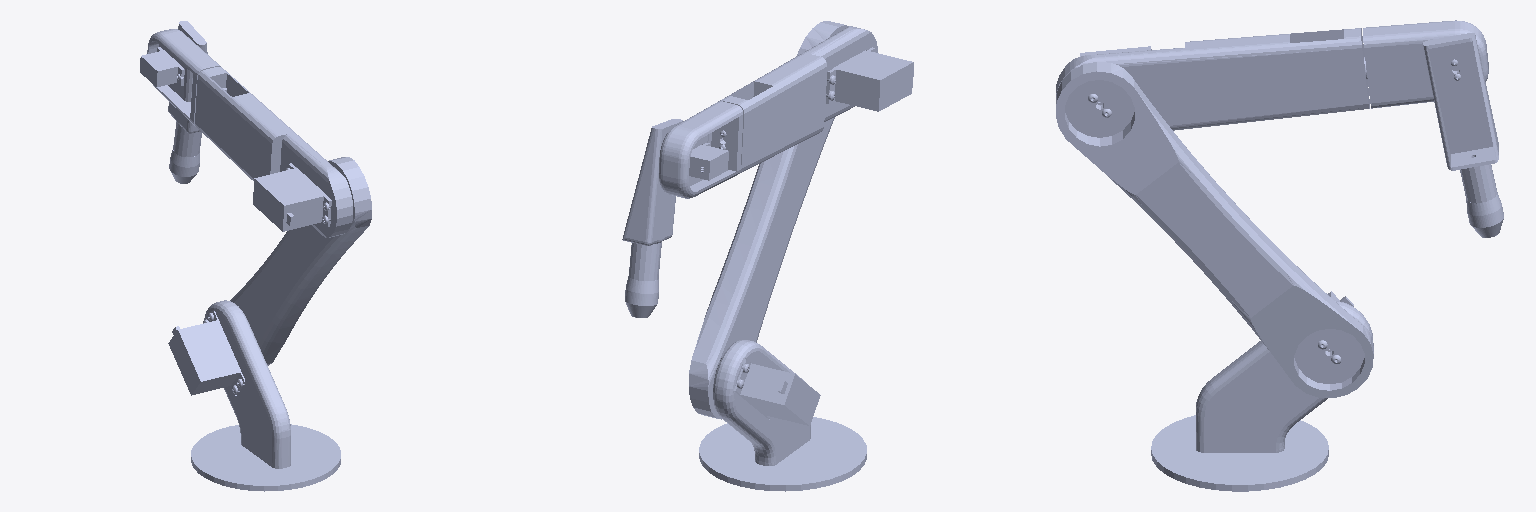
The robot description file, URDF, robot "urdf_assembly":
<?xml version="1.0" encoding="utf-8"?>
<!-- This URDF was automatically created by SolidWorks to URDF Exporter! Originally created by [author] ([email redacted]) 
     Commit Version: 1.6.0-1-g15f4949  Build Version: 1.6.7594.29634
     For more information, please see http://wiki.ros.org/urdf_export -->
<robot
  name="urdf_assembly">
  <link
    name="Base">
    <inertial>
      <origin
        xyz="0.025743 0.095867 0.016436"
        rpy="0 0 0" />
      <mass
        value="1.6937" />
      <inertia
        ixx="0.010051"
        ixy="1.7153E-06"
        ixz="6.7336E-08"
        iyy="0.011257"
        iyz="-0.00058741"
        izz="0.0096935" />
    </inertial>
    <visual>
      <origin
        xyz="0 0 0"
        rpy="0 0 0" />
      <geometry>
        <mesh
          filename="package://urdf_assembly/meshes/Base.STL" />
      </geometry>
      <material
        name="">
        <color
          rgba="0.79216 0.81961 0.93333 1" />
      </material>
    </visual>
    <collision>
      <origin
        xyz="0 0 0"
        rpy="0 0 0" />
      <geometry>
        <mesh
          filename="package://urdf_assembly/meshes/Base.STL" />
      </geometry>
    </collision>
  </link>
  <link
    name="Link1">
    <inertial>
      <origin
        xyz="0.002426 0.041407 -0.020781"
        rpy="0 0 0" />
      <mass
        value="0.13204" />
      <inertia
        ixx="0.00014468"
        ixy="-1.4706E-05"
        ixz="1.4494E-05"
        iyy="9.8209E-05"
        iyz="4.2546E-05"
        izz="0.00010751" />
    </inertial>
    <visual>
      <origin
        xyz="0 0 0"
        rpy="0 0 0" />
      <geometry>
        <mesh
          filename="package://urdf_assembly/meshes/Link1.STL" />
      </geometry>
      <material
        name="">
        <color
          rgba="0.79216 0.81961 0.93333 1" />
      </material>
    </visual>
    <collision>
      <origin
        xyz="0 0 0"
        rpy="0 0 0" />
      <geometry>
        <mesh
          filename="package://urdf_assembly/meshes/Link1.STL" />
      </geometry>
    </collision>
  </link>
  <joint
    name="Joint0"
    type="revolute">
    <origin
      xyz="0 0 0.101"
      rpy="1.5708 0 0.32385" />
    <parent
      link="Base" />
    <child
      link="Link1" />
    <axis
      xyz="0 1 0" />
    <limit
      lower="-2.5"
      upper="2.5"
      effort="0"
      velocity="0" />
  </joint>
  <link
    name="Link2">
    <inertial>
      <origin
        xyz="-0.0016224 0.083246 0.057904"
        rpy="0 0 0" />
      <mass
        value="0.1551" />
      <inertia
        ixx="0.00059524"
        ixy="8.3316E-05"
        ixz="5.8251E-05"
        iyy="0.00020264"
        iyz="-0.00024821"
        izz="0.00044125" />
    </inertial>
    <visual>
      <origin
        xyz="0 0 0"
        rpy="0 0 0" />
      <geometry>
        <mesh
          filename="package://urdf_assembly/meshes/Link2.STL" />
      </geometry>
      <material
        name="">
        <color
          rgba="0.79216 0.81961 0.93333 1" />
      </material>
    </visual>
    <collision>
      <origin
        xyz="0 0 0"
        rpy="0 0 0" />
      <geometry>
        <mesh
          filename="package://urdf_assembly/meshes/Link2.STL" />
      </geometry>
    </collision>
  </link>
  <joint
    name="Joint1"
    type="revolute">
    <origin
      xyz="0.015983 0.074195 -0.047617"
      rpy="0.10771 -0.0019457 0.036092" />
    <parent
      link="Link1" />
    <child
      link="Link2" />
    <axis
      xyz="0.94802 0 0.31822" />
    <limit
      lower="-3.14159"
      upper="3.14159"
      effort="0"
      velocity="0" />
  </joint>
  <link
    name="Link3">
    <inertial>
      <origin
        xyz="0.011814 -0.021418 -0.052188"
        rpy="0 0 0" />
      <mass
        value="0.1438" />
      <inertia
        ixx="0.00020613"
        ixy="1.6846E-05"
        ixz="4.5316E-05"
        iyy="0.00018247"
        iyz="-5.8025E-05"
        izz="6.5485E-05" />
    </inertial>
    <visual>
      <origin
        xyz="0 0 0"
        rpy="0 0 0" />
      <geometry>
        <mesh
          filename="package://urdf_assembly/meshes/Link3.STL" />
      </geometry>
      <material
        name="">
        <color
          rgba="0.79216 0.81961 0.93333 1" />
      </material>
    </visual>
    <collision>
      <origin
        xyz="0 0 0"
        rpy="0 0 0" />
      <geometry>
        <mesh
          filename="package://urdf_assembly/meshes/Link3.STL" />
      </geometry>
    </collision>
  </link>
  <joint
    name="Joint2"
    type="revolute">
    <origin
      xyz="-0.035265 0.16649 0.10506"
      rpy="0.35067 -0.020496 0.11557" />
    <parent
      link="Link2" />
    <child
      link="Link3" />
    <axis
      xyz="0.94802 0 0.31822" />
    <limit
      lower="-3.14159"
      upper="3.14159"
      effort="0"
      velocity="0" />
  </joint>
  <link
    name="Link4">
    <inertial>
      <origin
        xyz="0.015974 -0.019589 -0.046515"
        rpy="0 0 0" />
      <mass
        value="0.038385" />
      <inertia
        ixx="1.7814E-05"
        ixy="1.4075E-06"
        ixz="3.0984E-06"
        iyy="1.3188E-05"
        iyz="-1.9743E-06"
        izz="9.2426E-06" />
    </inertial>
    <visual>
      <origin
        xyz="0 0 0"
        rpy="0 0 0" />
      <geometry>
        <mesh
          filename="package://urdf_assembly/meshes/Link4.STL" />
      </geometry>
      <material
        name="">
        <color
          rgba="0.79216 0.81961 0.93333 1" />
      </material>
    </visual>
    <collision>
      <origin
        xyz="0 0 0"
        rpy="0 0 0" />
      <geometry>
        <mesh
          filename="package://urdf_assembly/meshes/Link4.STL" />
      </geometry>
    </collision>
  </link>
  <joint
    name="Joint3"
    type="revolute">
    <origin
      xyz="0.036895 -0.049968 -0.11959"
      rpy="0.048717 -0.053299 -0.13548" />
    <parent
      link="Link3" />
    <child
      link="Link4" />
    <axis
      xyz="0.29552 -0.37091 -0.8804" />
    <limit
      lower="-3.14159"
      upper="3.14159"
      effort="0"
      velocity="0" />
  </joint>
  <link
    name="Link 5">
    <inertial>
      <origin
        xyz="0.026698 -0.048966 -0.0006652"
        rpy="0 0 0" />
      <mass
        value="0.019695" />
      <inertia
        ixx="1.138E-05"
        ixy="2.5784E-06"
        ixz="3.9731E-07"
        iyy="2.3624E-06"
        iyz="-7.1809E-07"
        izz="1.136E-05" />
    </inertial>
    <visual>
      <origin
        xyz="0 0 0"
        rpy="0 0 0" />
      <geometry>
        <mesh
          filename="package://urdf_assembly/meshes/Link 5.STL" />
      </geometry>
      <material
        name="">
        <color
          rgba="0.79216 0.81961 0.93333 1" />
      </material>
    </visual>
    <collision>
      <origin
        xyz="0 0 0"
        rpy="0 0 0" />
      <geometry>
        <mesh
          filename="package://urdf_assembly/meshes/Link 5.STL" />
      </geometry>
    </collision>
  </link>
  <joint
    name="Joint4"
    type="revolute">
    <origin
      xyz="0.019616 -0.02462 -0.058439"
      rpy="-0.42003 -0.081756 -0.10165" />
    <parent
      link="Link4" />
    <child
      link="Link 5" />
    <axis
      xyz="0.95514 0.13338 0.26442" />
    <limit
      lower="-3.14159"
      upper="3.14159"
      effort="0"
      velocity="0" />
  </joint>
  <link
    name="End_Effector_Ring">
    <inertial>
      <origin
        xyz="4.8572E-17 -0.0024094 -5.5511E-17"
        rpy="0 0 0" />
      <mass
        value="8.6001E-07" />
      <inertia ixx="1.2908E-11"
        ixy="8.2633E-28"
        ixz="-1.5777E-28"
        iyy="2.578E-11"
        iyz="1.4136E-26"
        izz="1.2908E-11" />
    </inertial>
    <visual>
      <origin
        xyz="0 0 0"
        rpy="0 0 0" />
      <geometry>
        <mesh
          filename="package://urdf_assembly/meshes/End_Effector_Ring.STL" />
      </geometry>
      <material
        name="">
        <color
          rgba="0.79216 0.81961 0.93333 1" />
      </material>
    </visual>
    <collision>
      <origin
        xyz="0 0 0"
        rpy="0 0 0" />
      <geometry>
        <mesh
          filename="package://urdf_assembly/meshes/End_Effector_Ring.STL" />
      </geometry>
    </collision>
  </link>
  <joint
    name="Joint5"
    type="fixed">
    <origin
      xyz="0.036277 -0.092631 -0.0048937"
      rpy="0.11148 -0.2673 0.13878" />
    <parent
      link="Link 5" />
    <child
      link="End_Effector_Ring" />
    <axis
      xyz="0 1 0" />
  </joint>
</robot>

--- What the picture shows (computed from the rendered views, not written in the file) ---
The picture shows the robot from 3 angles, left to right: view 1: azimuth 30°, elevation 25°; view 2: azimuth 150°, elevation 25°; view 3: azimuth 270°, elevation 25°; orthographic projection.
Robot: urdf_assembly — 7 links, 6 joints (5 revolute, 1 fixed); root link Base; default pose: every joint at zero.
Links seen in each view (by area): view 1: Link1, Link3, Link2, Link4, Link 5; view 2: Link1, Link2, Link3, Link4, Link 5; view 3: Link2, Link3, Link1, Link 5, Link4.
Boxes of the visible links, x1,y1,x2,y2 form: Link1: [168, 300, 340, 491]; Link3: [195, 67, 352, 237]; Link2: [230, 157, 371, 365]; Link4: [140, 29, 220, 126]; Link 5: [168, 21, 207, 183]; Link1: [699, 340, 866, 491]; Link2: [689, 21, 848, 419]; Link3: [718, 26, 913, 173]; Link4: [659, 101, 742, 198]; Link 5: [622, 119, 682, 317]; Link2: [1056, 62, 1373, 397]; Link3: [1056, 28, 1369, 130]; Link1: [1151, 291, 1372, 491]; Link 5: [1423, 33, 1503, 237]; Link4: [1363, 20, 1488, 108].
Bounding box of the posed robot: 0.0996 × 0.2522 × 0.2704 m (x, y, z).
Meshes: 7 distinct files referenced, 6 mesh visuals loaded (6 binary STL); not drawn: 1 (reference not matched to a file when rendering).